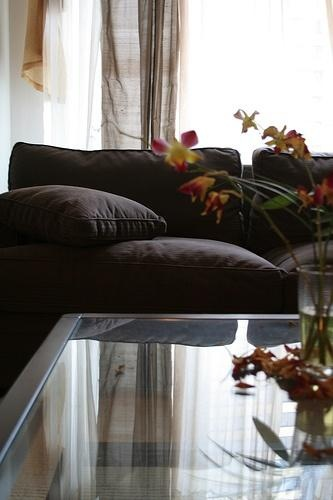sofa: (8, 141, 333, 316)
